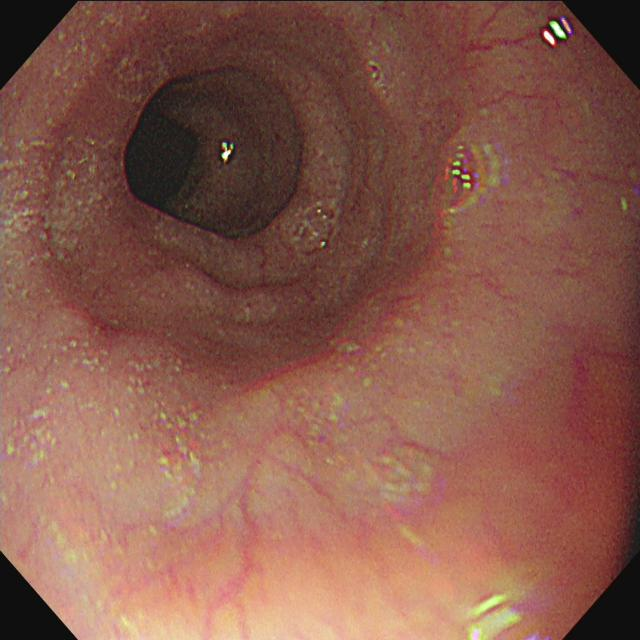E: (126, 113, 196, 202)
J: (2, 135, 126, 266), (51, 2, 177, 102)
U: (468, 595, 525, 640), (443, 145, 473, 193), (541, 18, 573, 51), (222, 141, 237, 165)
